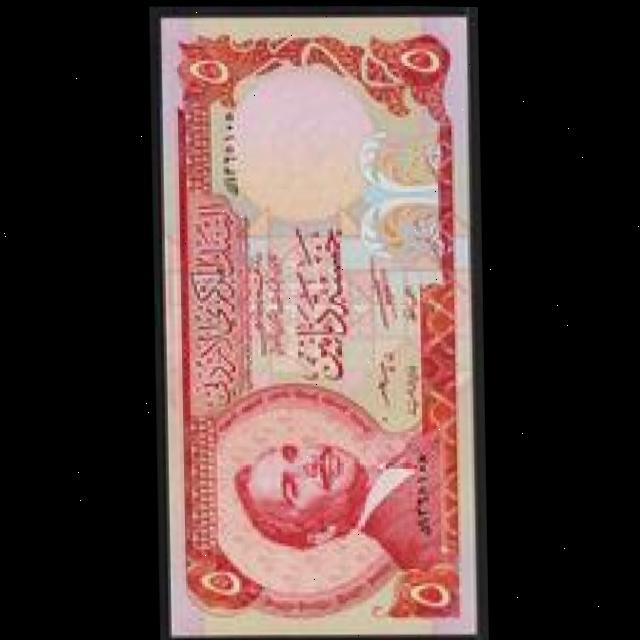banknote: (149, 2, 480, 640)
